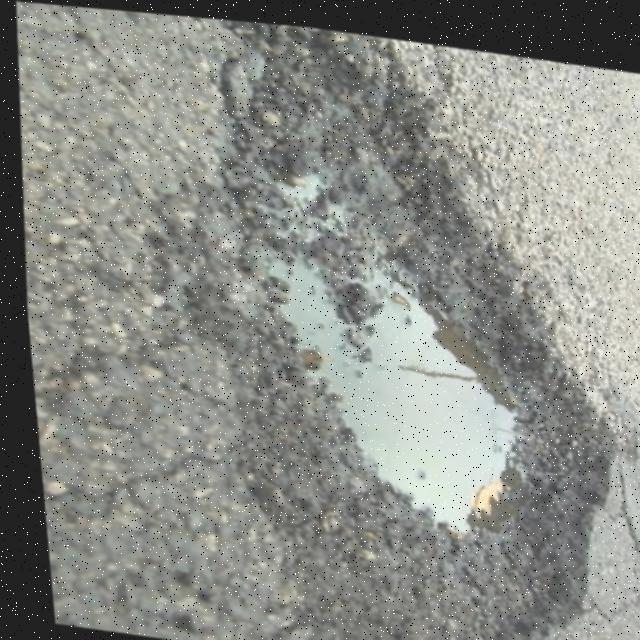pothole: (198, 117, 627, 608)
